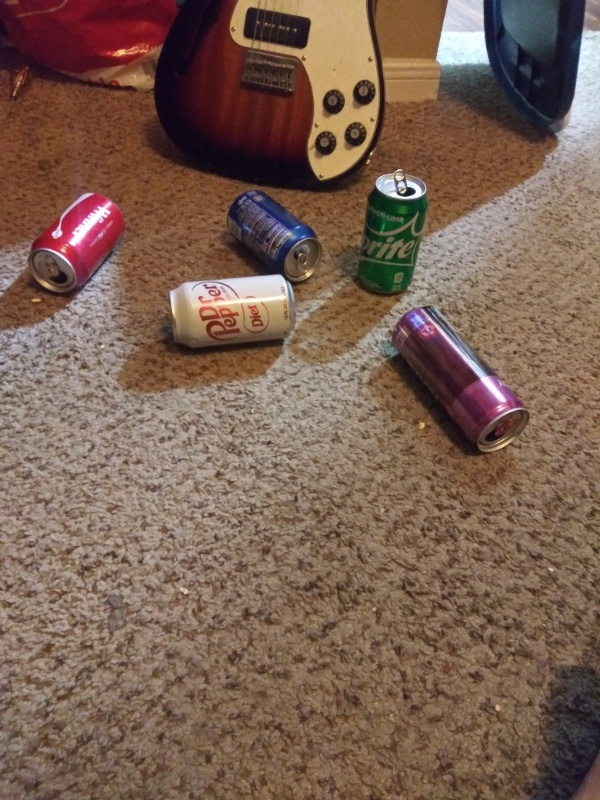can: (386, 303, 533, 456), (26, 195, 127, 301), (354, 167, 435, 299), (168, 270, 300, 350), (226, 187, 326, 283)
